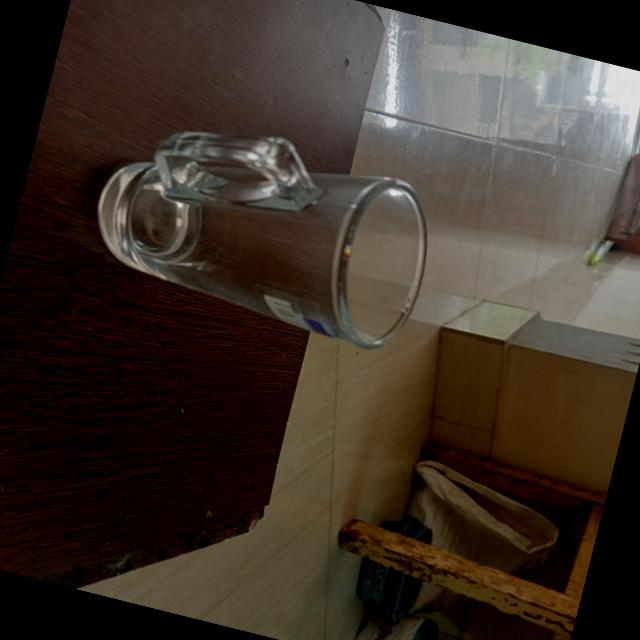glass-VX4N: (61, 85, 459, 363)
